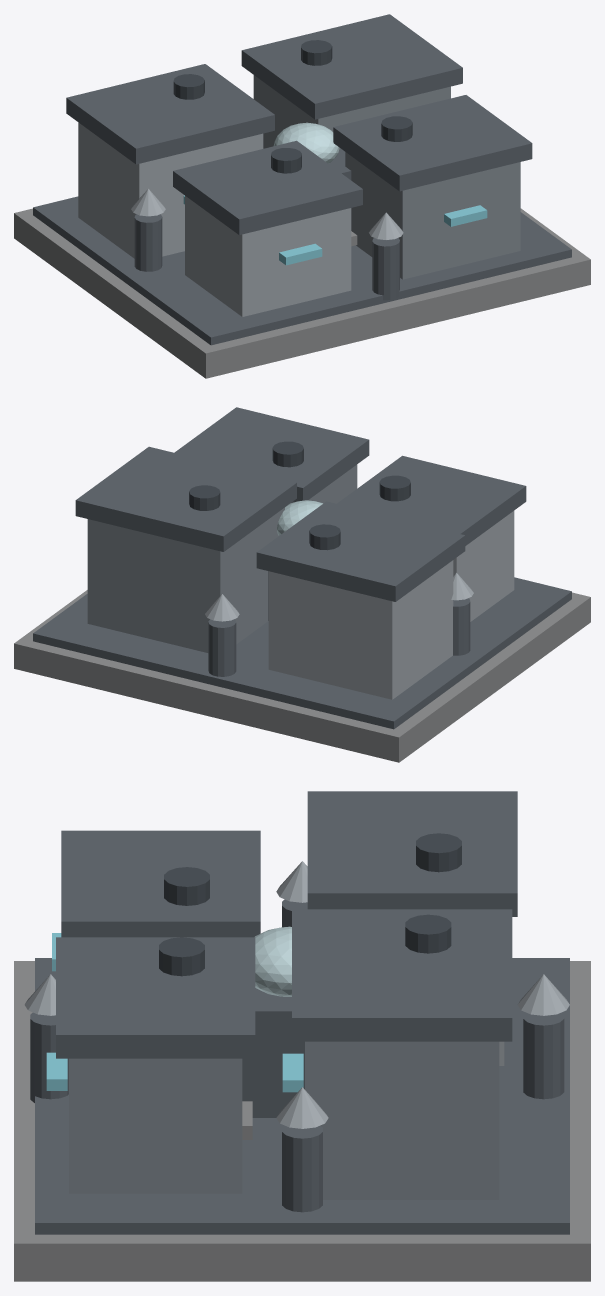
File: human_housing.glb
The picture shows the model from 3 angles, top to bottom: view 1: azimuth 30°, elevation 25°; view 2: azimuth 150°, elevation 25°; view 3: azimuth 270°, elevation 25°; orthographic projection. The views are drawn at different scales.
Visible parts, largest first — view 1: foundation, foundation_top, hab_roof_1, hab_module_2, hab_module_3, hab_roof_0, hab_roof_3, hab_roof_2, hab_module_0, hab_module_1, utility_stack_3, utility_stack_0 (+9 smaller); view 2: foundation, foundation_top, hab_module_0, hab_module_1, hab_roof_1, hab_roof_0, hab_roof_3, hab_roof_2, hab_module_2, utility_stack_2, utility_stack_0, hab_module_3 (+6 smaller); view 3: foundation, foundation_top, hab_module_1, hab_roof_1, hab_module_3, hab_roof_0, hab_roof_3, hab_roof_2, utility_hub, utility_stack_2, utility_stack_1, utility_core (+11 smaller).
Part boxes in pixels (x1=…): foundation: x1=14, y1=208, x2=590, y2=378; foundation_top: x1=33, y1=196, x2=571, y2=345; hab_roof_1: x1=241, y1=14, x2=462, y2=119; hab_module_2: x1=185, y1=196, x2=351, y2=316; hab_module_3: x1=345, y1=152, x2=520, y2=279; hab_roof_0: x1=66, y1=64, x2=274, y2=164; hab_roof_3: x1=333, y1=95, x2=532, y2=191; hab_roof_2: x1=173, y1=140, x2=362, y2=235; hab_module_0: x1=78, y1=122, x2=263, y2=258; hab_module_1: x1=253, y1=75, x2=450, y2=148; utility_stack_3: x1=372, y1=238, x2=399, y2=300; utility_stack_0: x1=134, y1=214, x2=162, y2=271; foundation: x1=14, y1=590, x2=590, y2=762; foundation_top: x1=33, y1=577, x2=571, y2=729; hab_module_0: x1=268, y1=560, x2=453, y2=699; hab_module_1: x1=87, y1=507, x2=284, y2=652; hab_roof_1: x1=75, y1=446, x2=296, y2=551; hab_roof_0: x1=256, y1=501, x2=465, y2=601; hab_roof_3: x1=174, y1=407, x2=369, y2=501; hab_roof_2: x1=337, y1=455, x2=526, y2=545; hab_module_2: x1=453, y1=511, x2=514, y2=621; utility_stack_2: x1=208, y1=619, x2=236, y2=676; utility_stack_0: x1=453, y1=598, x2=470, y2=655; hab_module_3: x1=291, y1=464, x2=357, y2=503; foundation: x1=14, y1=961, x2=590, y2=1281; foundation_top: x1=35, y1=958, x2=569, y2=1234; hab_module_1: x1=305, y1=1041, x2=499, y2=1199; hab_roof_1: x1=292, y1=909, x2=512, y2=1041; hab_module_3: x1=69, y1=1058, x2=242, y2=1193; hab_roof_0: x1=307, y1=791, x2=517, y2=916; hab_roof_3: x1=56, y1=937, x2=255, y2=1058; hab_roof_2: x1=61, y1=830, x2=260, y2=937; utility_hub: x1=242, y1=988, x2=304, y2=1117; utility_stack_2: x1=523, y1=1012, x2=564, y2=1099; utility_stack_1: x1=282, y1=1125, x2=322, y2=1212; utility_core: x1=254, y1=926, x2=291, y2=996.
Bounding box in the file's own units: 2.55 × 1.08 × 2.2.
